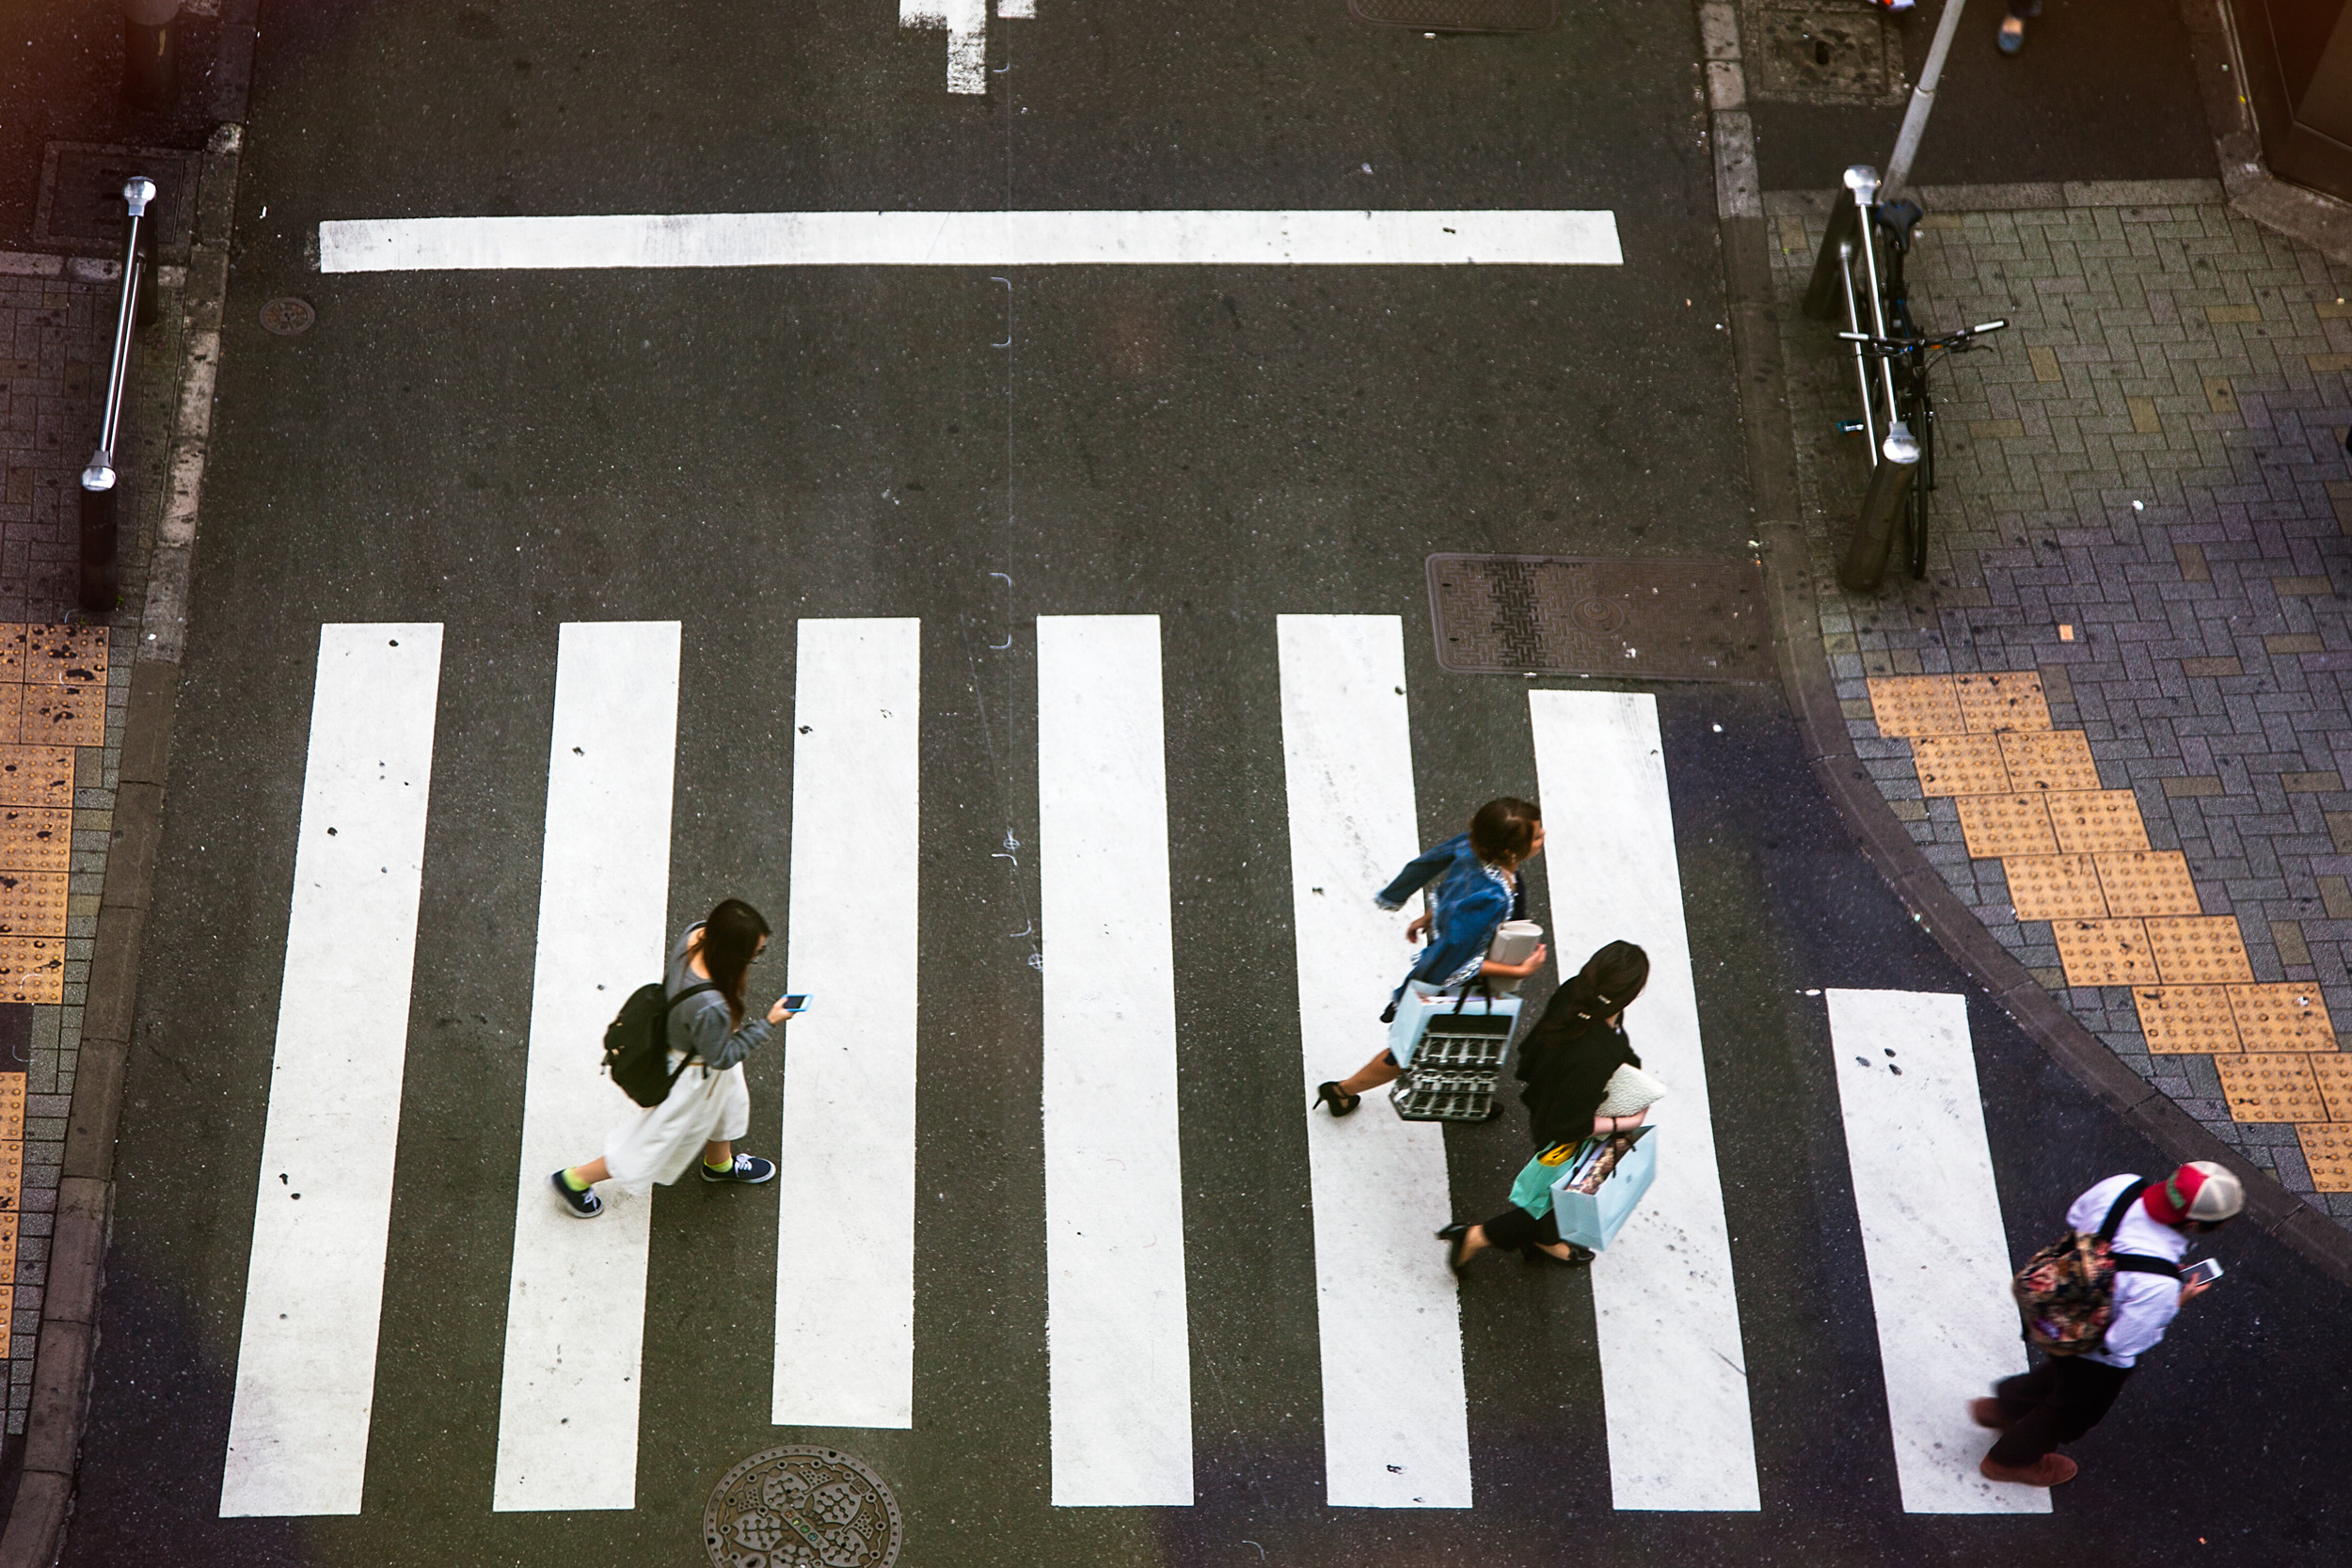person: (1972, 1155, 2233, 1491), (550, 894, 789, 1218)
